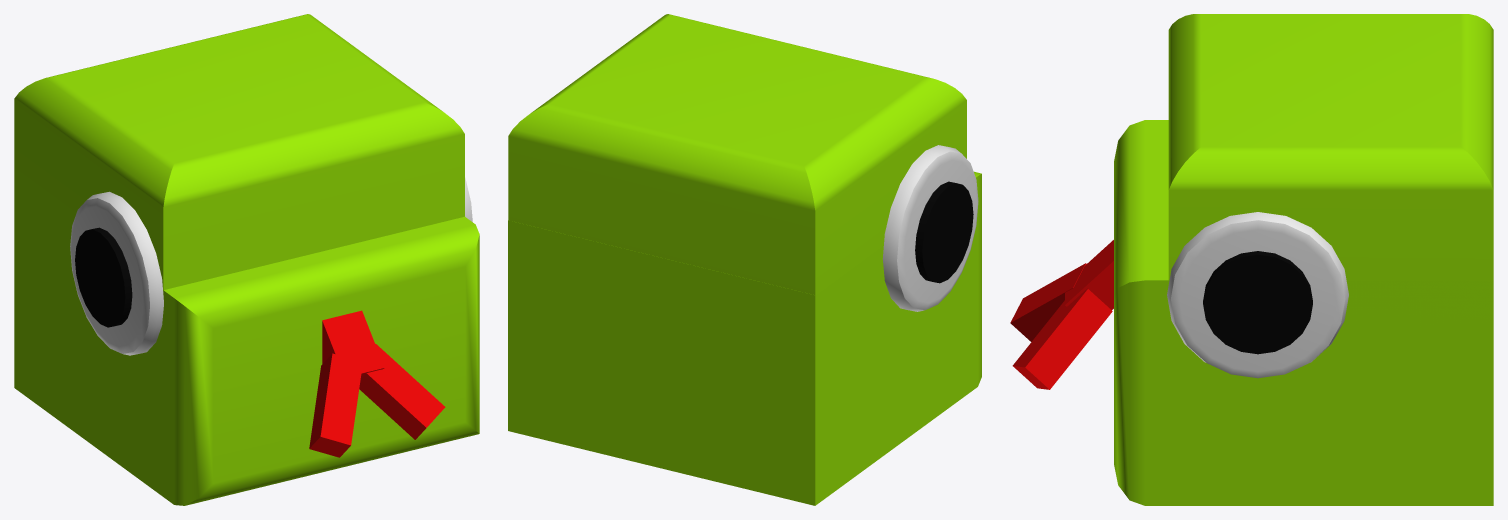
File: sheadb.fbx
The picture shows the model from 3 angles, left to right: view 1: azimuth 30°, elevation 25°; view 2: azimuth 150°, elevation 25°; view 3: azimuth 270°, elevation 25°; orthographic projection. The views are drawn at different scales.
Visible parts, largest first — view 1: polySurface1; view 2: polySurface1; view 3: polySurface1.
Boxes of the visible parts, <box> form: polySurface1: <box>14,14,479,505</box>; polySurface1: <box>508,14,981,505</box>; polySurface1: <box>1010,14,1493,505</box>.
Bounding box in the file's own units: 1.14 × 1 × 1.27.
